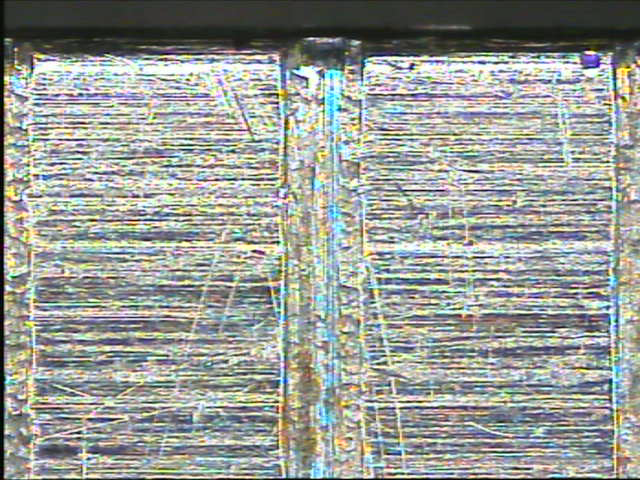line: (276, 34, 369, 475)
